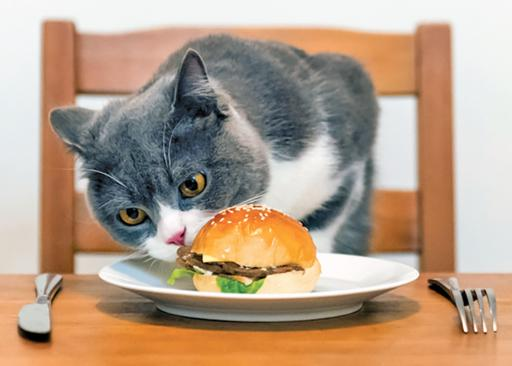cat_eating: (49, 35, 418, 323)
